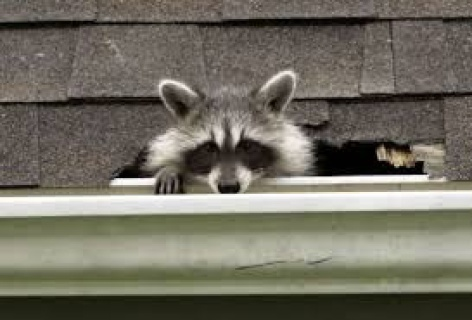Raccoon: (100, 57, 340, 219)
